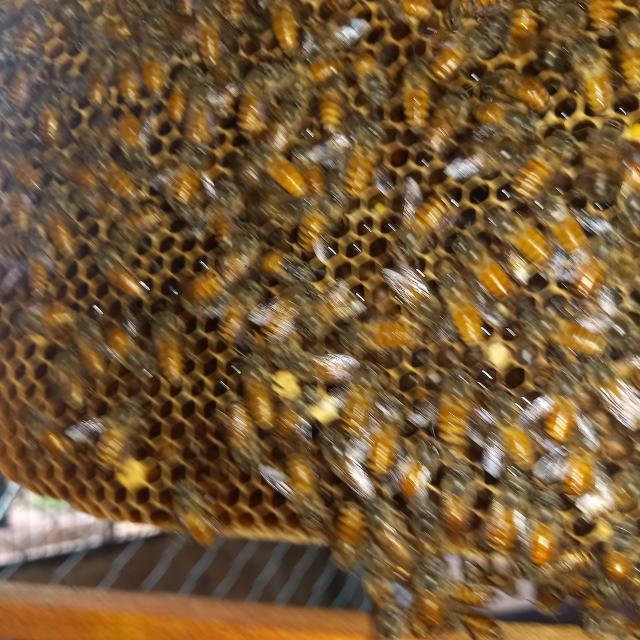honeybee: (546, 199, 613, 286), (80, 396, 152, 473), (491, 194, 554, 281), (155, 481, 223, 560), (170, 250, 250, 316), (503, 133, 568, 207), (589, 351, 640, 442), (390, 446, 440, 536), (90, 229, 145, 309), (222, 396, 277, 473), (570, 27, 618, 114), (368, 398, 418, 481), (326, 430, 382, 499), (86, 149, 143, 216), (247, 142, 310, 202), (434, 266, 485, 338), (494, 68, 554, 128), (337, 363, 383, 440), (548, 426, 595, 501), (434, 461, 482, 534), (327, 491, 368, 576), (456, 233, 505, 304), (398, 62, 438, 140), (539, 369, 581, 442), (243, 358, 280, 438), (432, 11, 471, 86), (365, 506, 409, 572), (135, 29, 174, 102), (280, 449, 322, 512), (151, 315, 189, 383), (165, 146, 207, 206), (102, 324, 142, 377), (201, 30, 237, 87), (317, 76, 350, 137), (293, 45, 348, 81), (269, 3, 301, 57), (506, 0, 536, 51), (168, 73, 196, 125), (190, 80, 212, 144), (42, 100, 71, 144)
